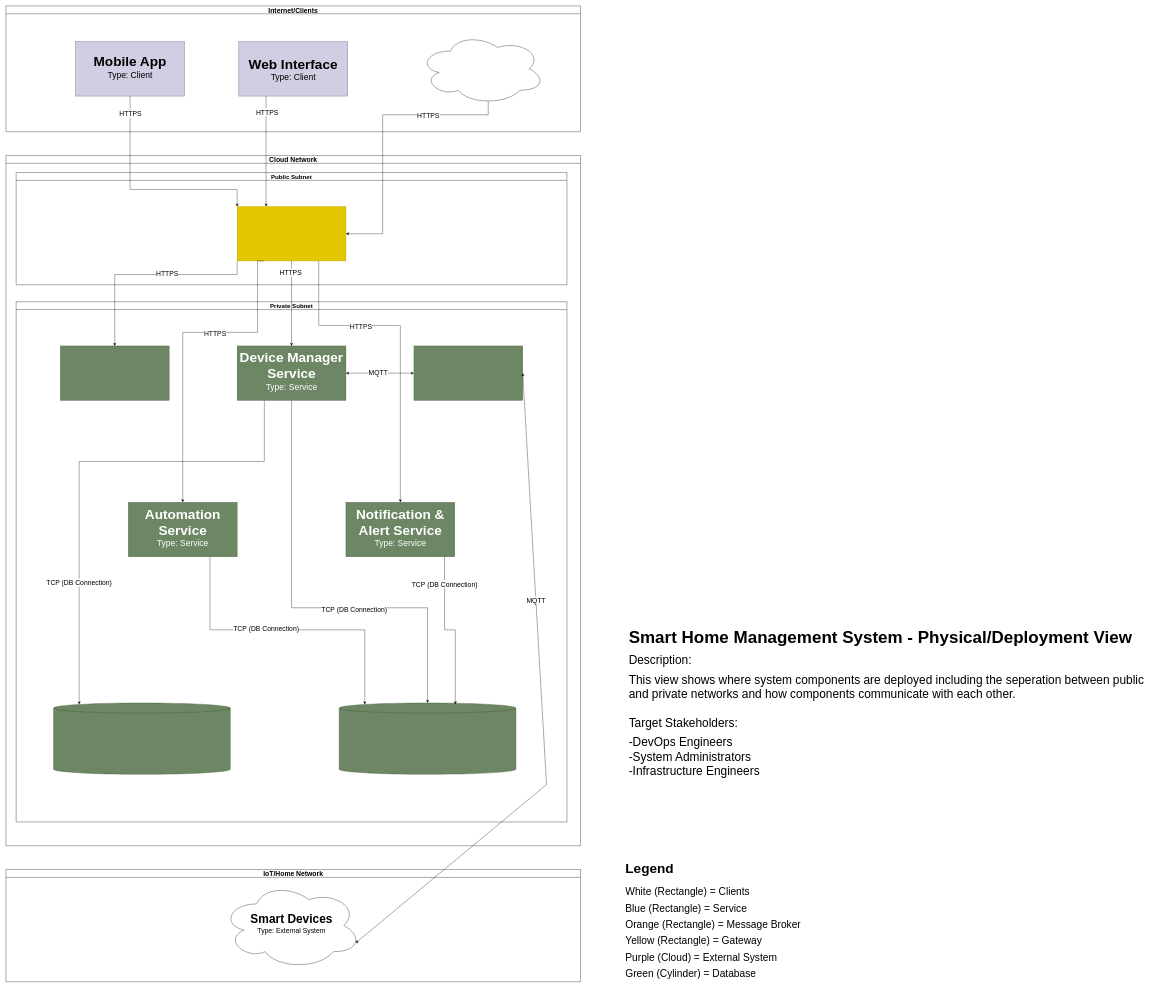
The diagram is 1158 pixels wide and 1001 high, and some of its shapes have lost their labels. Each missing label, with the centre of its shape:
"API Gateway Type: Gateway" goes at (x=291, y=233).
"Authentication Service Type: Service" goes at (x=114, y=373).
"MQTT Broker Type: Message Broker" goes at (x=468, y=373).
"Operational Database Type: Database" goes at (x=427, y=738).
"Telemetry Database Type: Database" goes at (x=141, y=738).
"Voice Assistant Type: External System" goes at (x=482, y=69).
